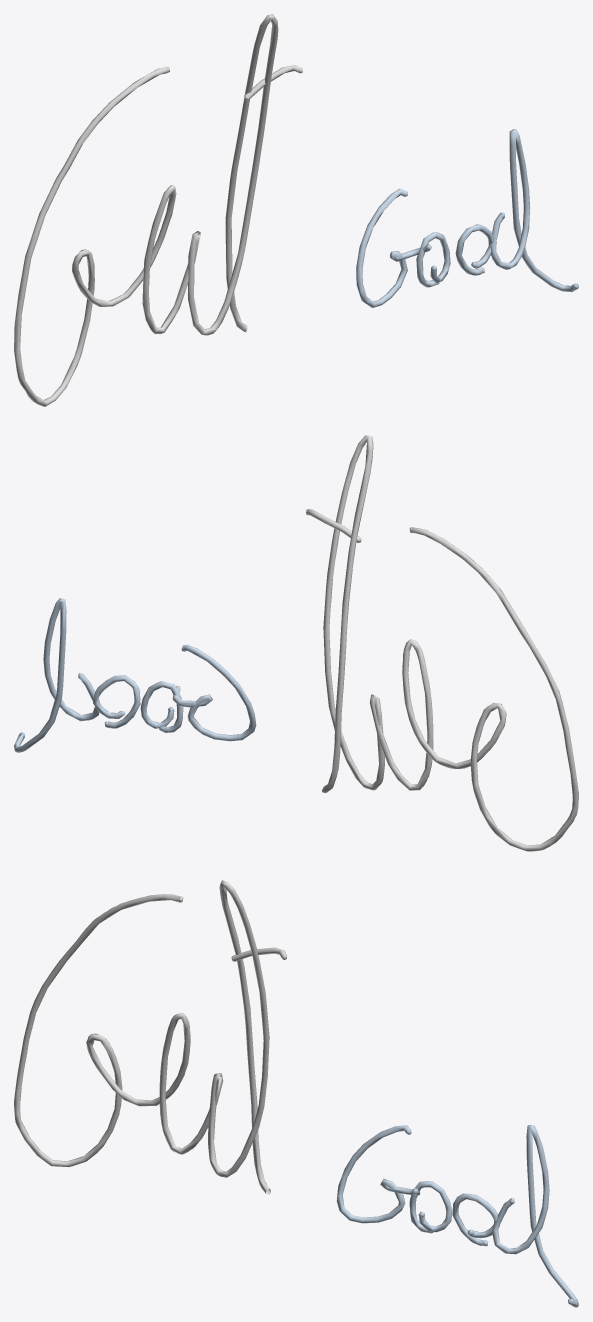
The model's file is Gut.glb.
3 renders of one model, top to bottom at view 1: azimuth 30°, elevation 25°; view 2: azimuth 150°, elevation 25°; view 3: azimuth 330°, elevation 25°, orthographic. The views are drawn at different scales.
Visible parts, largest first — view 1: Mesh_8.006; view 2: Mesh_8.006; view 3: Mesh_8.006.
Boxes of the visible parts, <box> form: Mesh_8.006: <box>14,14,578,406</box>; Mesh_8.006: <box>14,435,578,851</box>; Mesh_8.006: <box>14,880,578,1307</box>.
Bounding box in the file's own units: 1.02 × 0.6508 × 0.1292.
